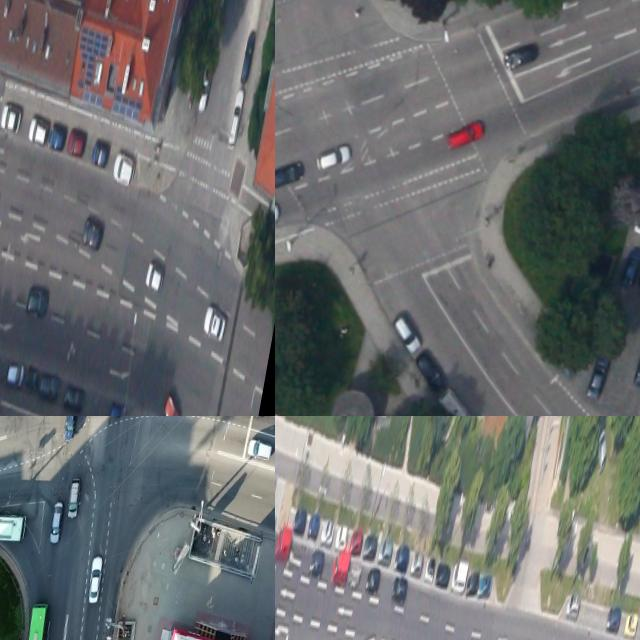UAI: (408, 348, 451, 397), (443, 113, 487, 156), (312, 138, 353, 178), (500, 37, 539, 76), (389, 315, 424, 355), (432, 385, 476, 416), (200, 301, 229, 345), (585, 352, 611, 400), (275, 156, 305, 192), (110, 149, 137, 188), (227, 89, 245, 147), (197, 53, 215, 111), (85, 555, 106, 604), (592, 425, 612, 475), (24, 282, 50, 318), (79, 215, 105, 251), (619, 245, 640, 288), (240, 30, 256, 82), (47, 501, 65, 544), (65, 476, 83, 519), (143, 260, 165, 295), (38, 371, 62, 403), (62, 382, 86, 414), (330, 551, 351, 587), (449, 557, 469, 593), (27, 116, 50, 146), (158, 390, 184, 416), (275, 525, 293, 562), (0, 104, 22, 134), (90, 136, 111, 167), (47, 121, 68, 152), (246, 437, 273, 461), (66, 127, 87, 157), (392, 542, 411, 575), (5, 359, 26, 388), (390, 574, 409, 606), (376, 535, 394, 567), (564, 589, 581, 621), (307, 548, 325, 578), (604, 604, 622, 634), (630, 185, 640, 236), (630, 339, 640, 390), (365, 565, 382, 595), (333, 521, 349, 552), (361, 532, 378, 561), (622, 609, 638, 639), (348, 527, 364, 557), (319, 517, 335, 546), (292, 506, 308, 535), (465, 569, 480, 599), (306, 511, 321, 541), (477, 572, 493, 599), (61, 416, 78, 441), (435, 562, 451, 588), (25, 365, 40, 392), (409, 551, 424, 578), (347, 561, 361, 588), (423, 556, 436, 584), (106, 400, 126, 416)
car: (14, 600, 53, 640), (0, 505, 26, 549)
